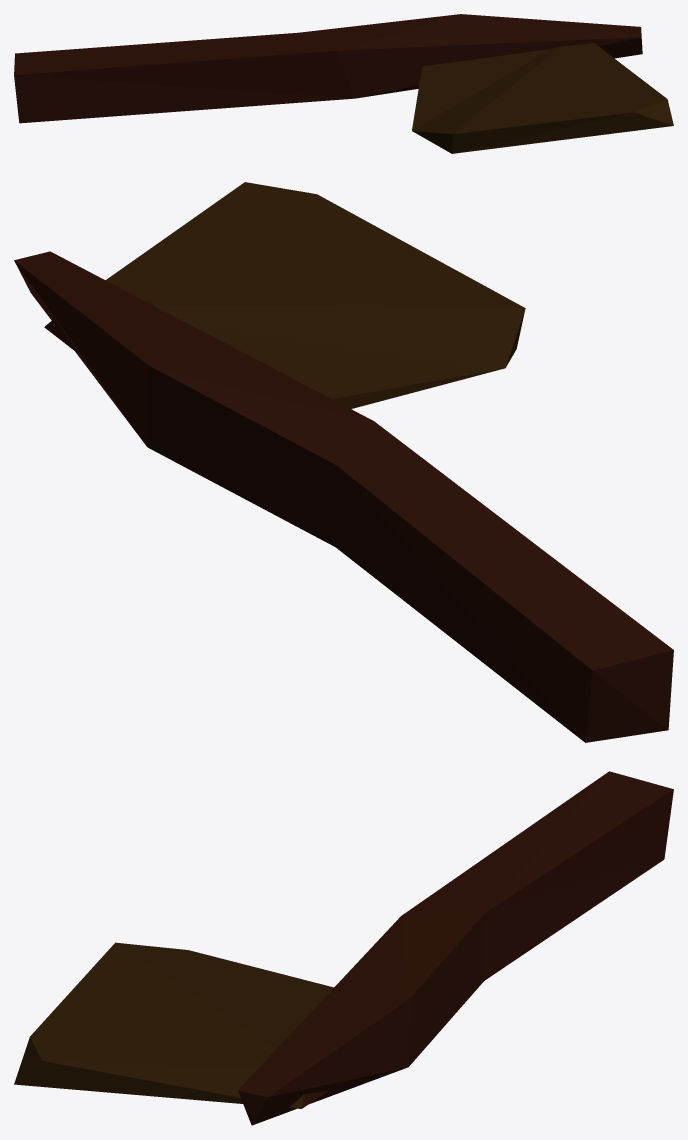
File: axe.fbx
3 views of the same model, one above another, from view 1: azimuth 30°, elevation 25°; view 2: azimuth 150°, elevation 25°; view 3: azimuth 270°, elevation 25° (orthographic). The views are drawn at different scales.
Parts seen in each view (by area): view 1: axe; view 2: axe; view 3: axe.
Boxes of the visible parts, x1,y1,x2,y2 form: axe: [14, 14, 673, 153]; axe: [14, 182, 673, 742]; axe: [14, 771, 673, 1125].
Bounding box in the file's own units: 91.33 × 12.06 × 73.62.
